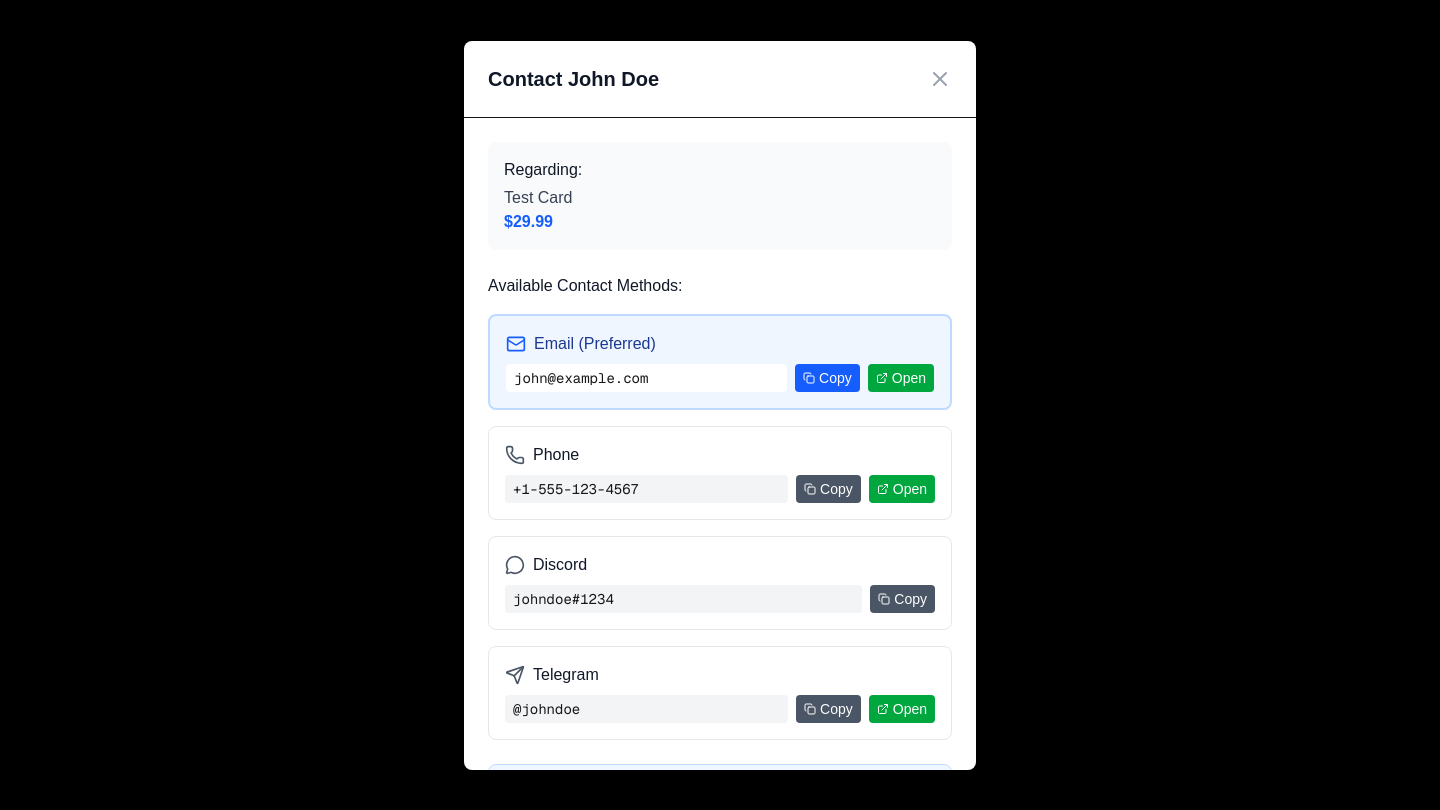
Test: ContactSellerModal › copy to clipboard functionality › should show "Copied!" feedback after copying
Step 1. Click the button "Copy" next to "john@example.com" → point(827, 378), box [795, 364, 860, 392]
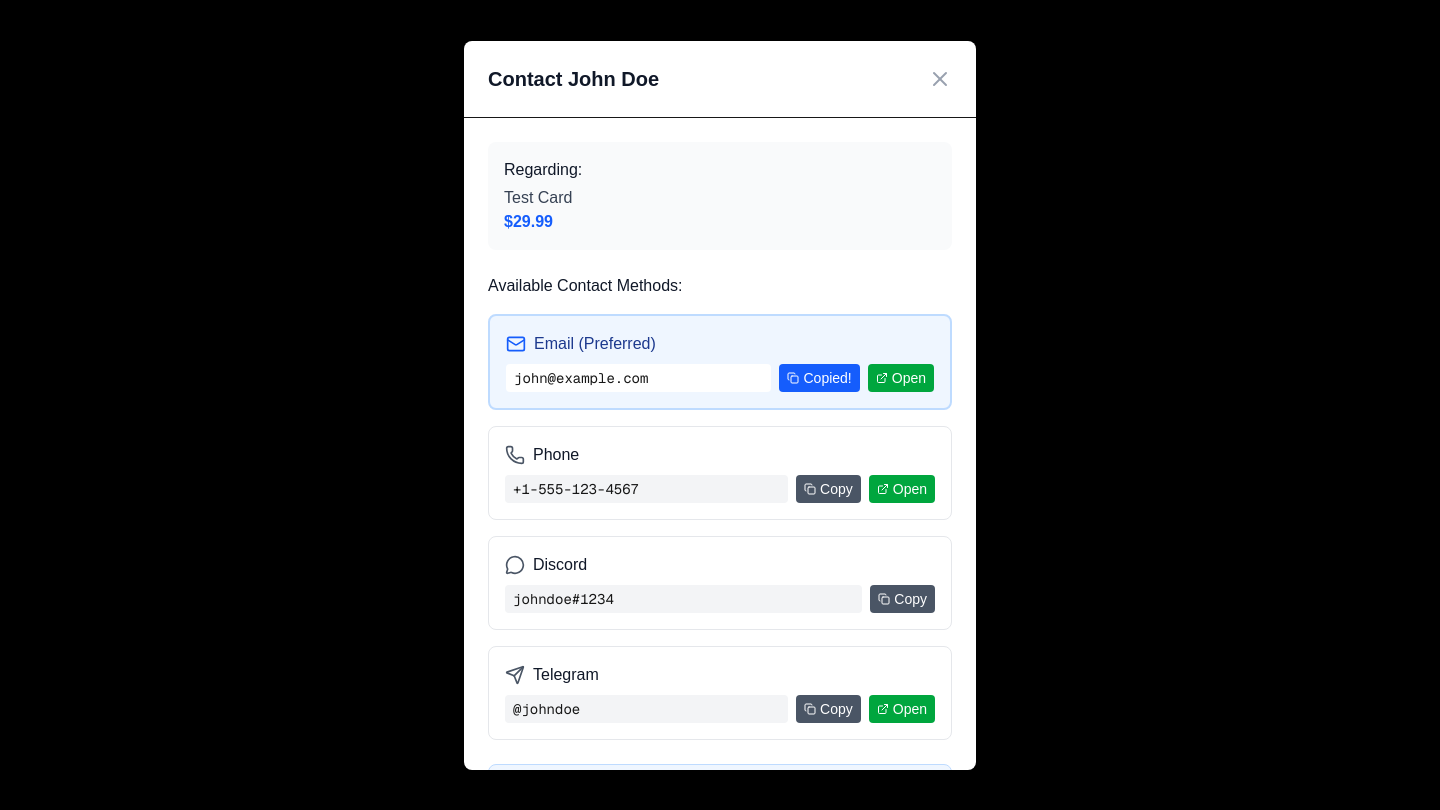
Result: the button "Copied!" is shown at [780, 364, 860, 392]
